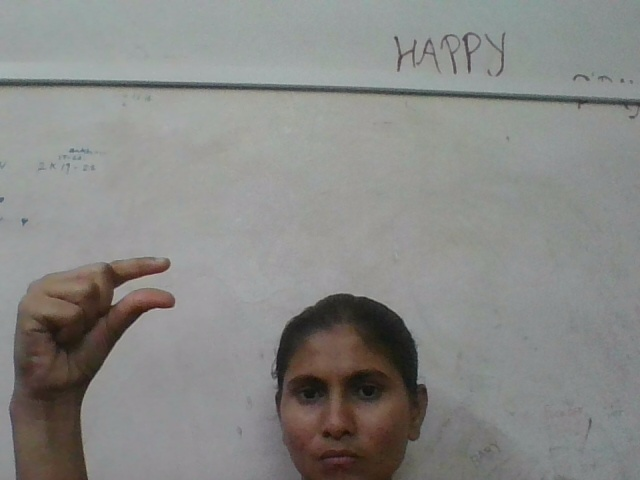No: (6, 250, 196, 397)
